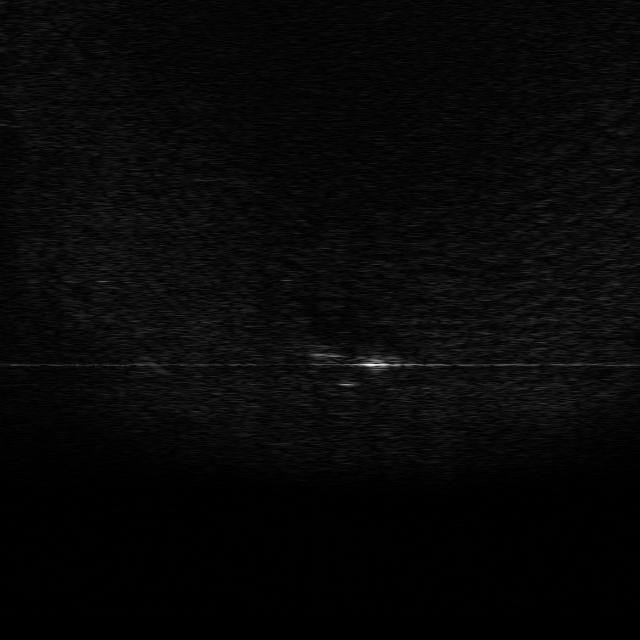plane: (313, 337, 412, 381)
